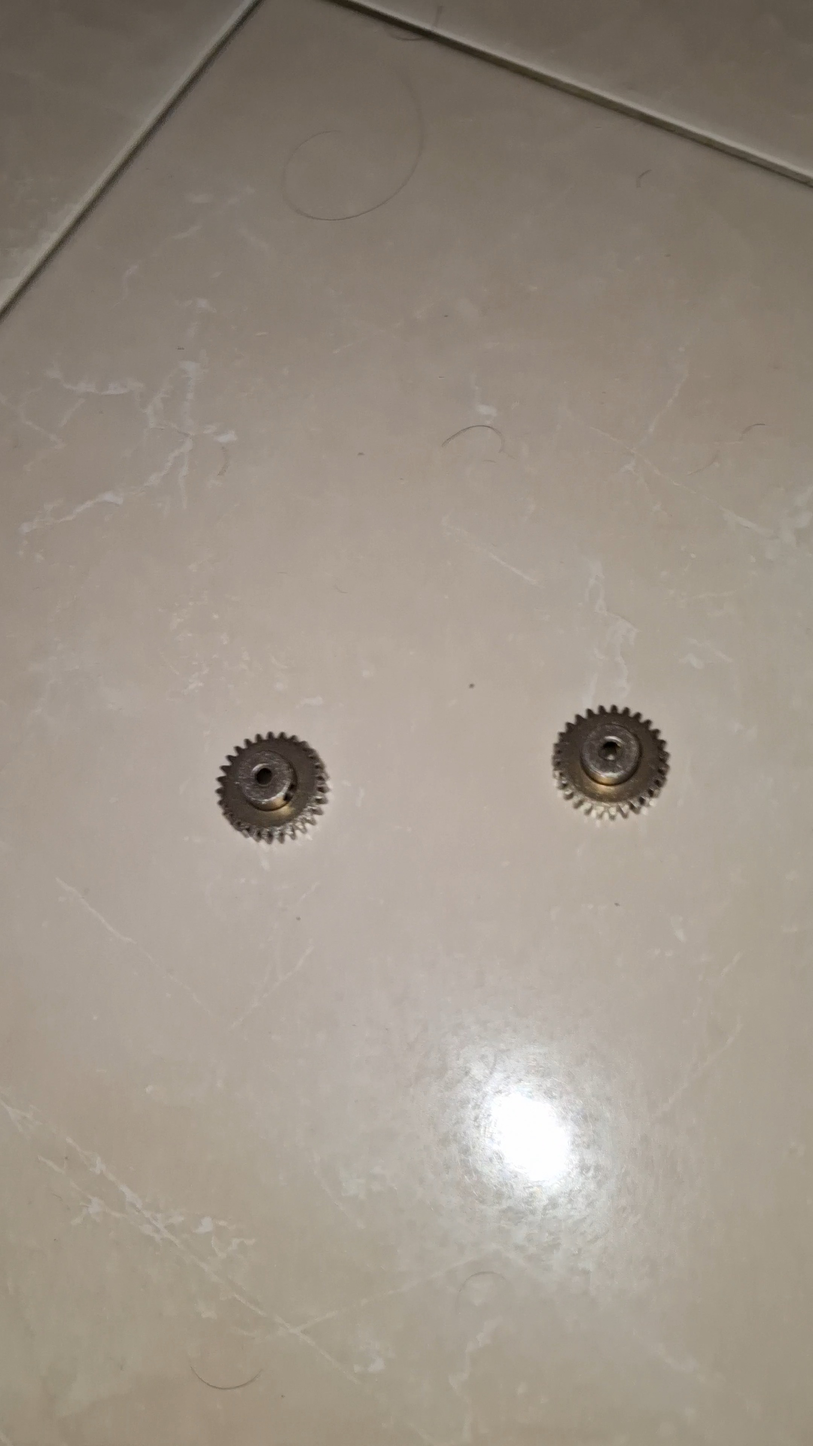spur gear: (553, 708, 668, 817), (217, 733, 328, 841)
